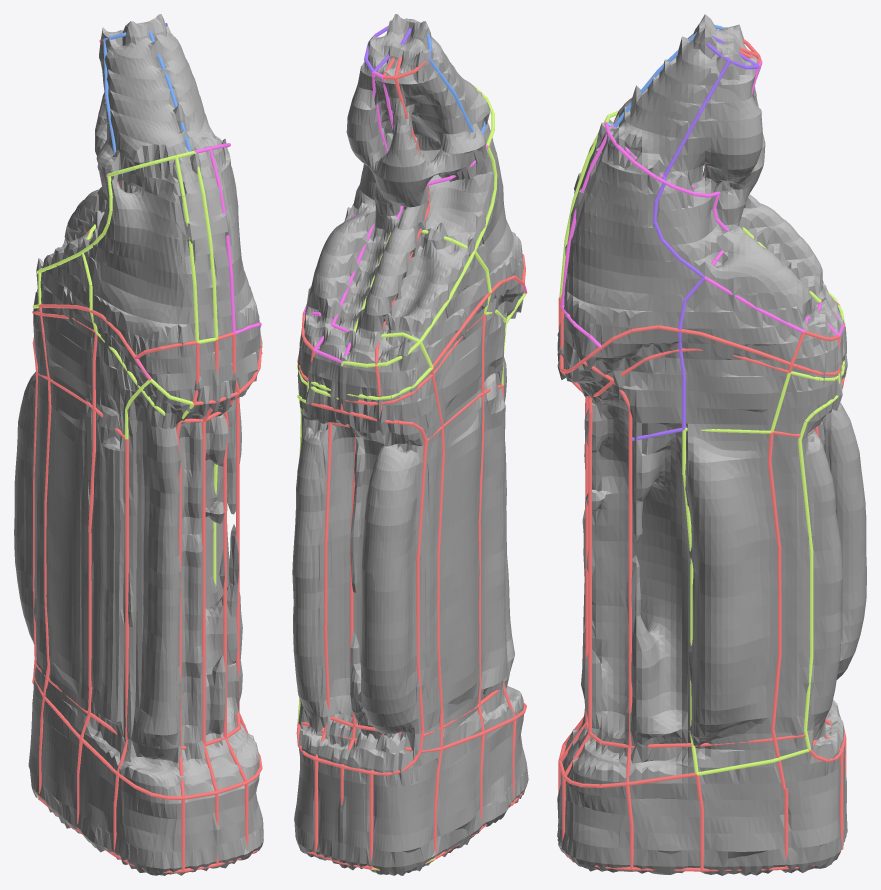
File: flowrep_bottle.gltf
3 renders of one model, left to right at view 1: azimuth 30°, elevation 25°; view 2: azimuth 150°, elevation 25°; view 3: azimuth 270°, elevation 25°, orthographic. The views are drawn at different scales.
Size of the model in its own units: 0.2026 by 0.9614 by 0.3275.
